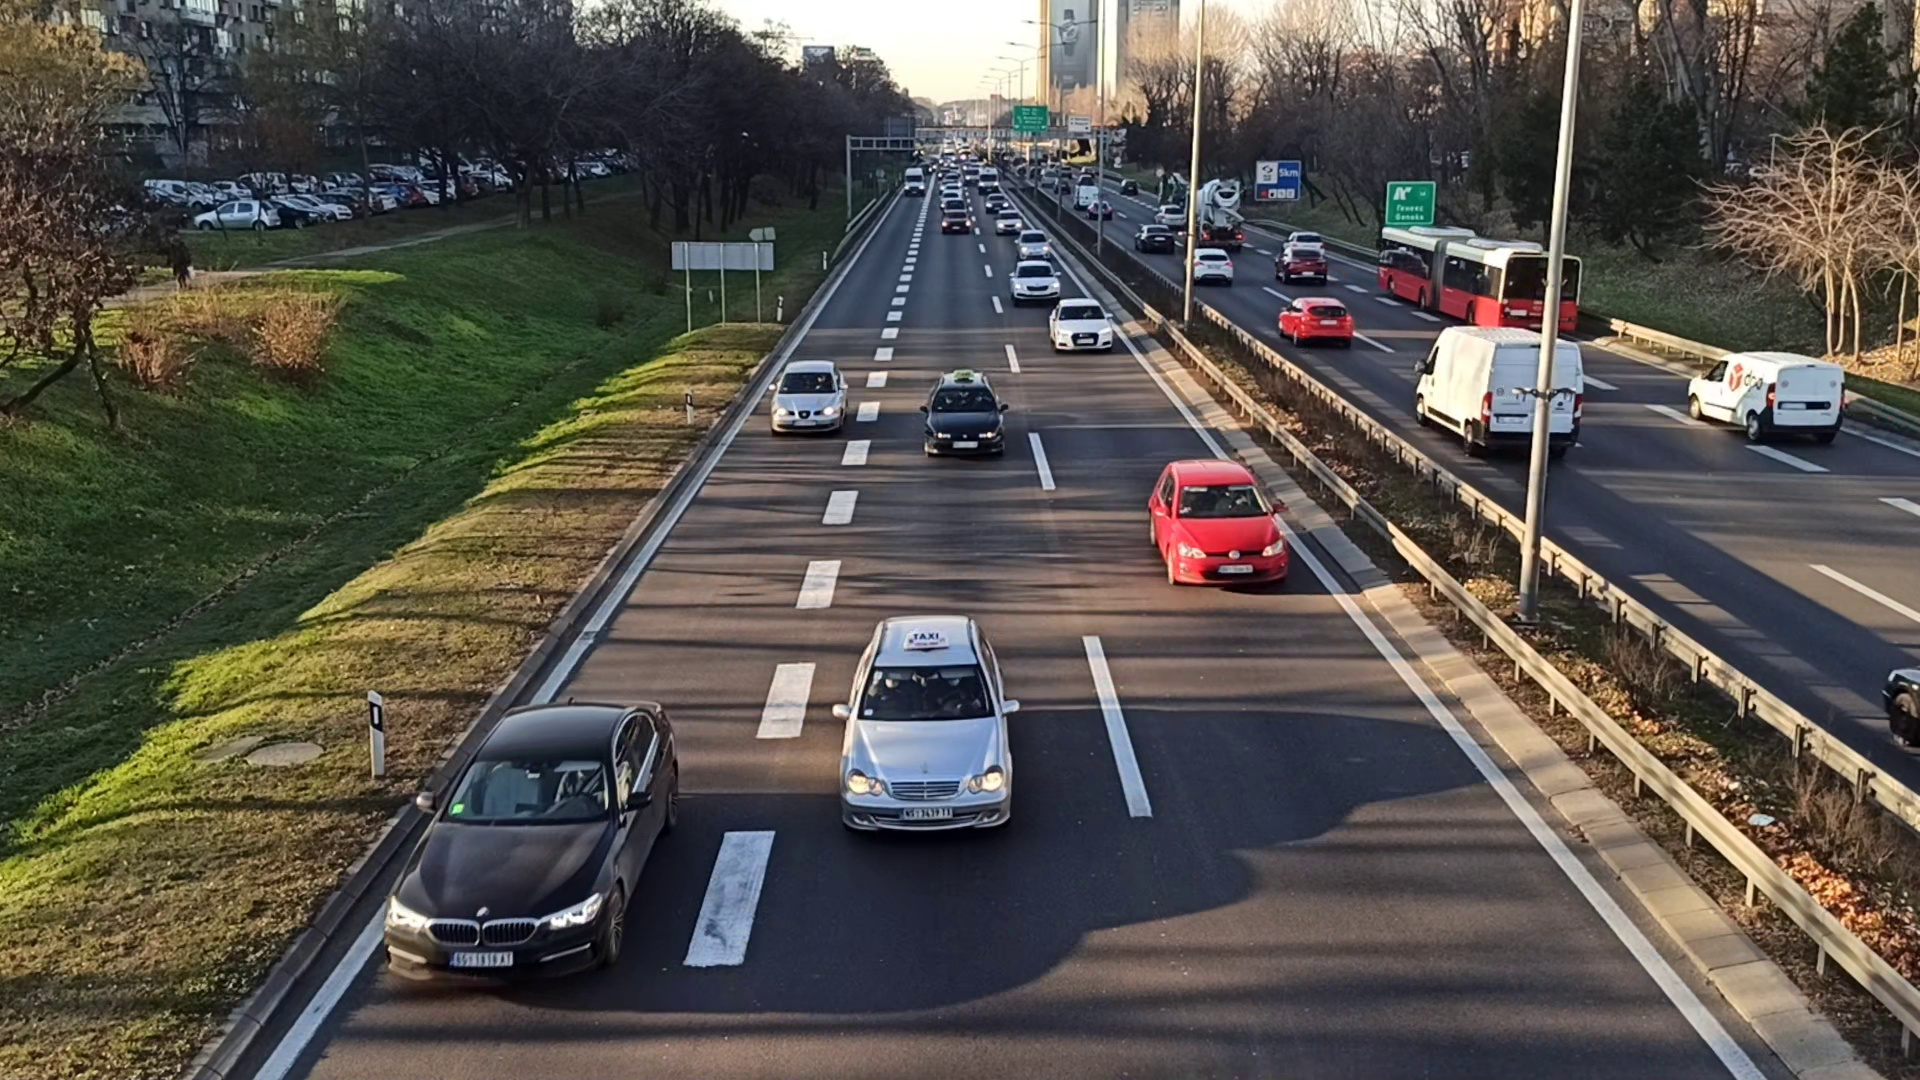bus: (1375, 223, 1580, 334)
car: (384, 702, 679, 985), (840, 615, 1015, 841), (1145, 458, 1290, 599), (924, 369, 1006, 462), (770, 356, 848, 435), (1048, 295, 1113, 357), (1276, 294, 1354, 345), (1010, 261, 1060, 302), (1184, 247, 1233, 284), (1276, 247, 1327, 280), (1017, 229, 1048, 258), (940, 208, 971, 232)
van: (1416, 323, 1580, 452), (1687, 351, 1845, 444)
